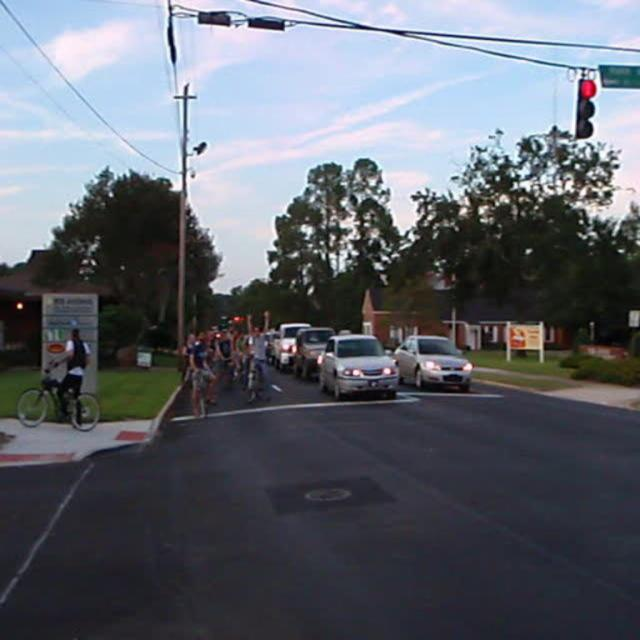car: (314, 327, 397, 400)
